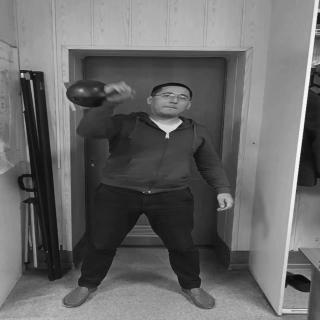kettlebell: (64, 78, 132, 110)
